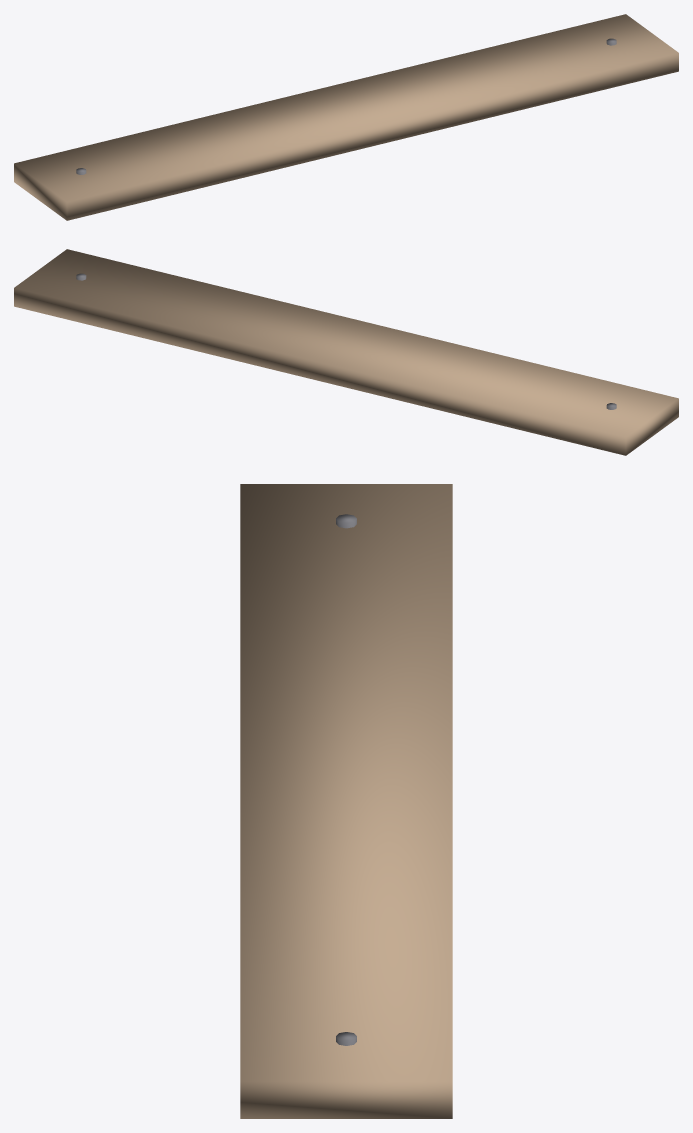
File: wood_plank.glb
3 renders of one model, top to bottom at view 1: azimuth 30°, elevation 25°; view 2: azimuth 150°, elevation 25°; view 3: azimuth 270°, elevation 25°, orthographic. The views are drawn at different scales.
Visible parts, largest first — view 1: WoodPlank; view 2: WoodPlank; view 3: WoodPlank.
Boxes of the visible parts, x1,y1,x2,y2 form: WoodPlank: (14,14,678,220); WoodPlank: (14,249,678,455); WoodPlank: (240,484,452,1118).
Bounding box in the file's own units: 1.2 × 0.04 × 0.18.
